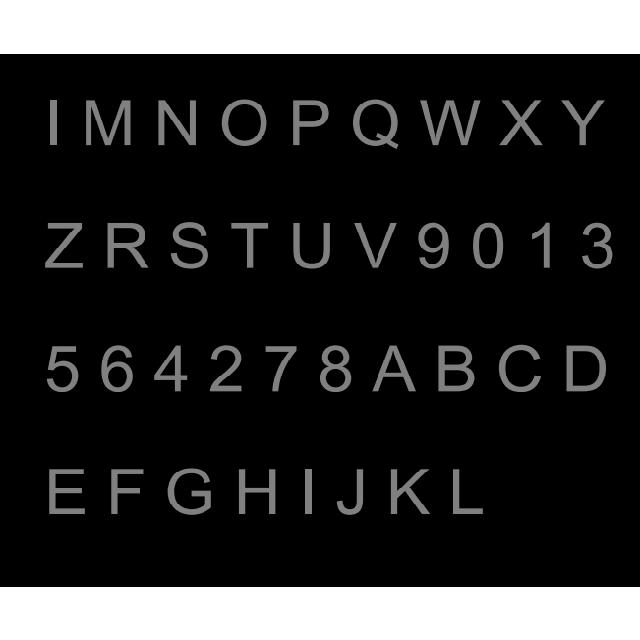0: (472, 218, 506, 276)
1: (532, 218, 557, 270)
2: (205, 340, 244, 396)
3: (576, 215, 612, 274)
4: (152, 342, 188, 396)
5: (46, 335, 84, 404)
6: (101, 338, 137, 398)
7: (264, 342, 298, 395)
8: (319, 340, 354, 398)
9: (563, 338, 606, 402), (416, 218, 449, 275)
A: (365, 341, 420, 396)
B: (428, 338, 478, 398)
C: (493, 339, 544, 396)
E: (46, 462, 90, 524)
F: (109, 466, 149, 520)
G: (161, 466, 220, 519)
H: (238, 468, 281, 522)
J: (336, 463, 366, 518)
K: (390, 458, 436, 516)
L: (452, 461, 488, 518)
M: (85, 100, 136, 153)
N: (149, 99, 204, 152)
P: (287, 93, 332, 151)
Q: (350, 95, 406, 155)
R: (101, 218, 156, 278)
S: (164, 215, 213, 275)
T: (230, 220, 269, 273)
U: (290, 220, 330, 274)
V: (353, 216, 397, 273)
W: (419, 101, 481, 153)
X: (497, 97, 543, 153)
Y: (559, 96, 605, 152)
Z: (38, 217, 88, 272)
